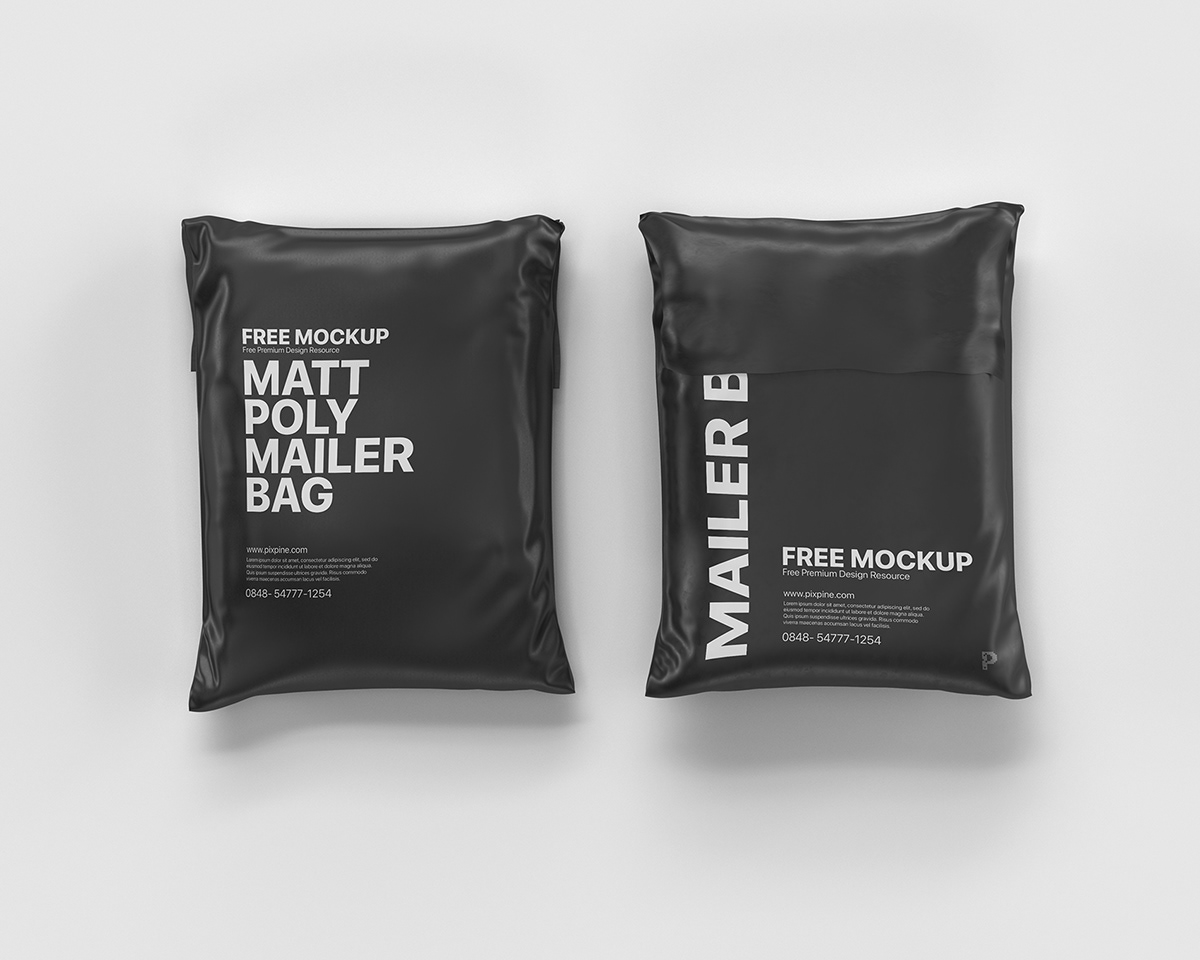Parcel: (639, 202, 1031, 698), (181, 215, 572, 712)
